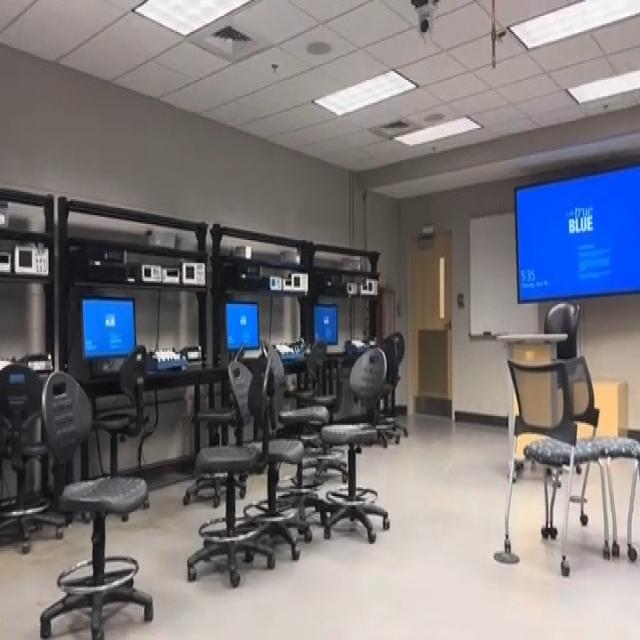drone: (282, 326, 310, 364)
